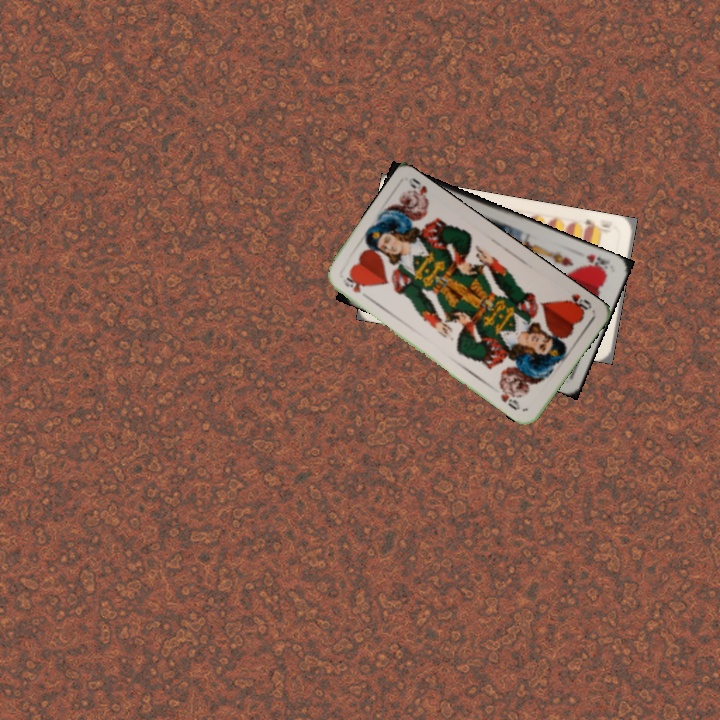E10: (581, 215, 613, 235)
HK: (582, 250, 612, 275)
HO: (338, 273, 373, 302), (562, 290, 594, 316)
